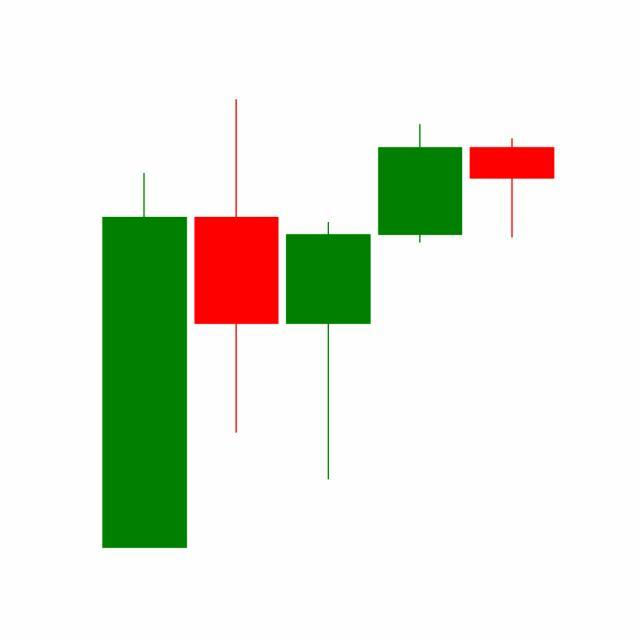Hanging Man: (466, 138, 559, 240)
